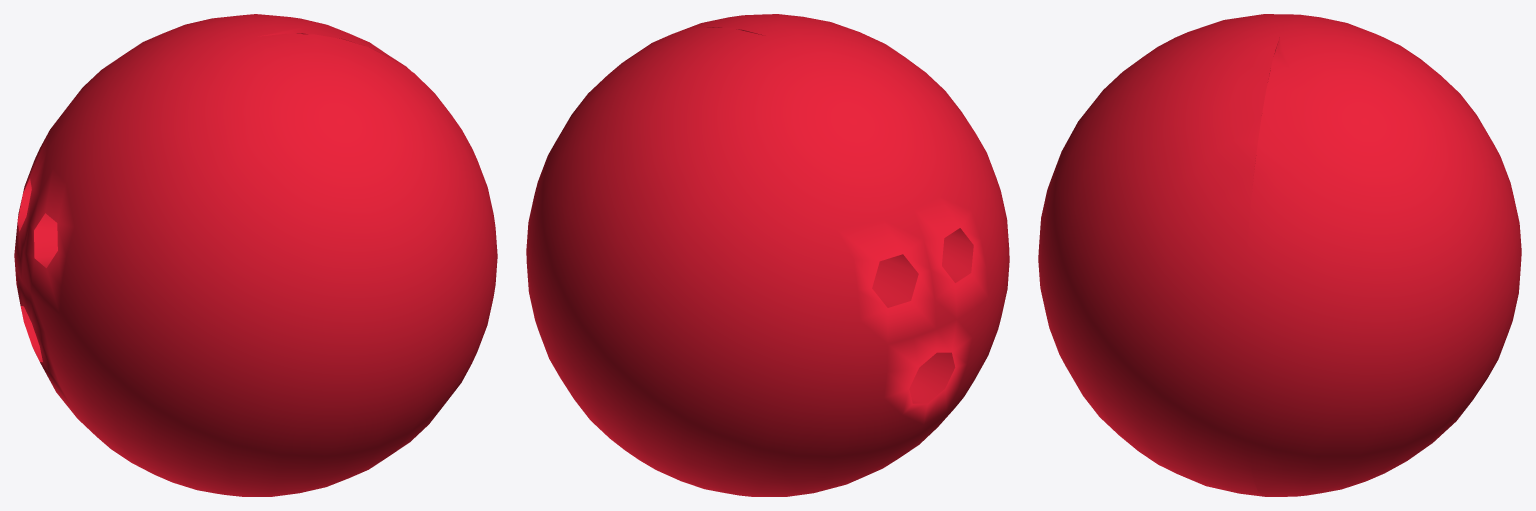
File: BowlingBall1.glb
3 views of the same model, side by side, from view 1: azimuth 30°, elevation 25°; view 2: azimuth 150°, elevation 25°; view 3: azimuth 270°, elevation 25° (orthographic).
Visible parts, largest first — view 1: Sphere.003; view 2: Sphere.003; view 3: Sphere.003.
Boxes of the visible parts, bbox=[...] form: Sphere.003: bbox=[14, 14, 497, 496]; Sphere.003: bbox=[526, 14, 1009, 496]; Sphere.003: bbox=[1038, 14, 1521, 496].
Bounding box in the file's own units: 0.4527 × 0.4528 × 0.4525.
